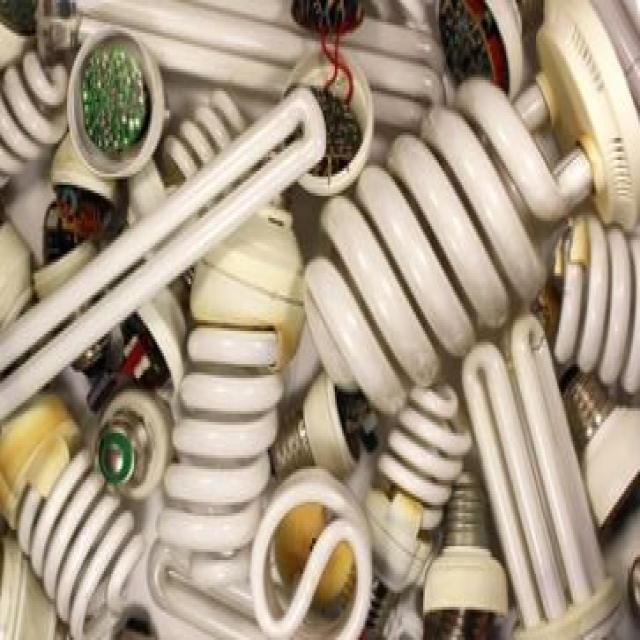electronic: (0, 0, 638, 637), (65, 25, 166, 179)
